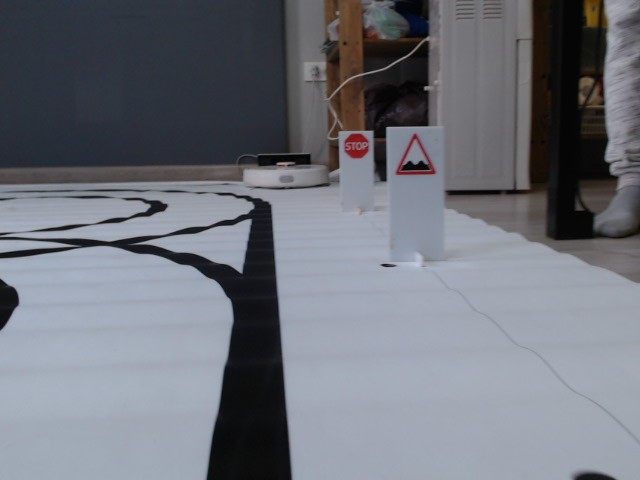Nerov: (390, 131, 440, 180)
Stop: (343, 134, 371, 160)
